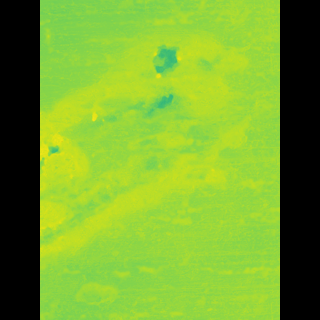Loch: (68, 0, 229, 258)
